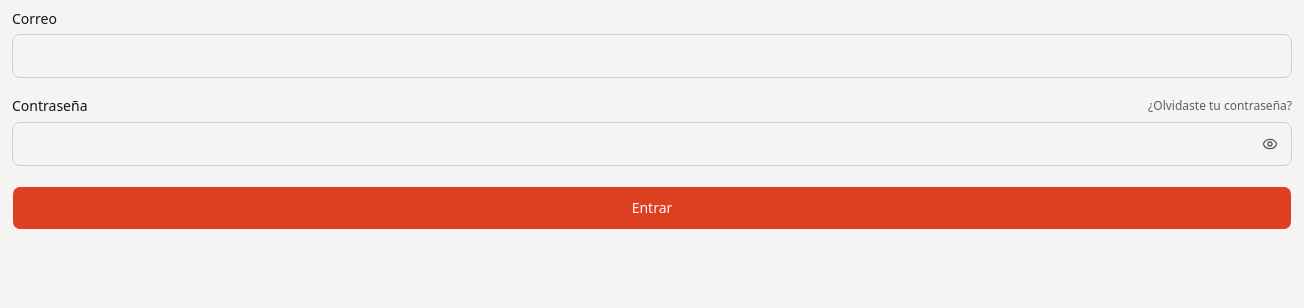
Scenario: LoginForm › validates the email before submitting
The image size is (1304, 308).
In the field labelled "Correo": coordinates (652, 56) [12, 34, 1292, 78], type "no-es-correo"
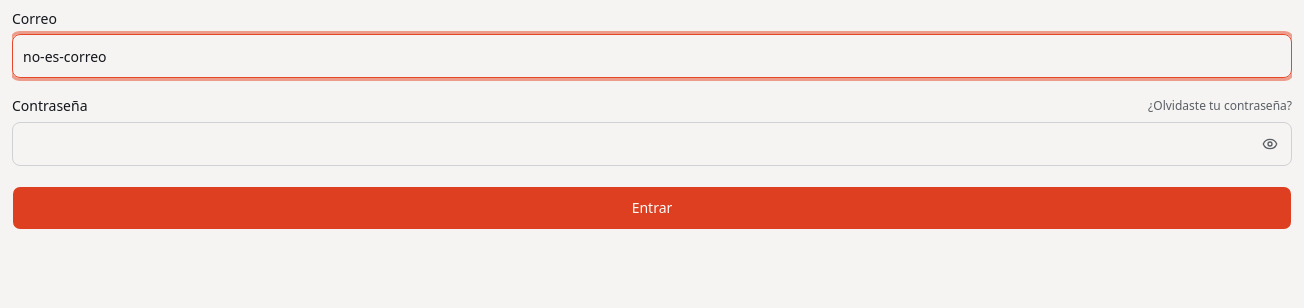
In the password field labelled "Contraseña": coordinates (652, 144) [12, 122, 1292, 166], type "x"
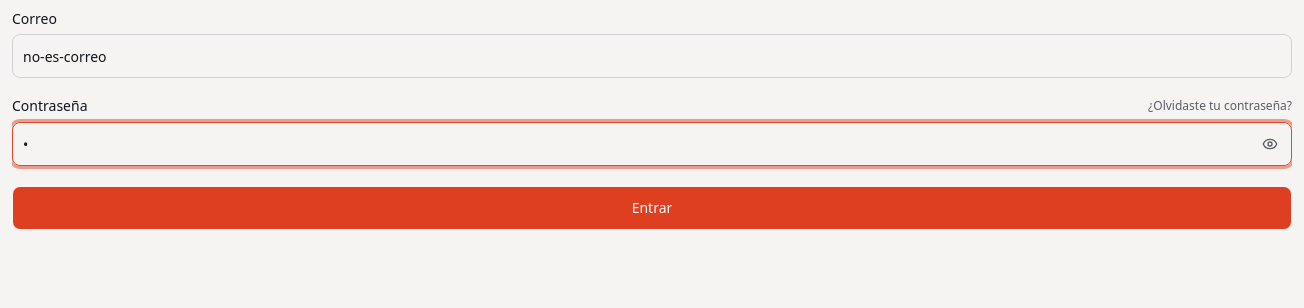
Click the button "Entrar": coordinates (652, 208) [12, 186, 1292, 230]
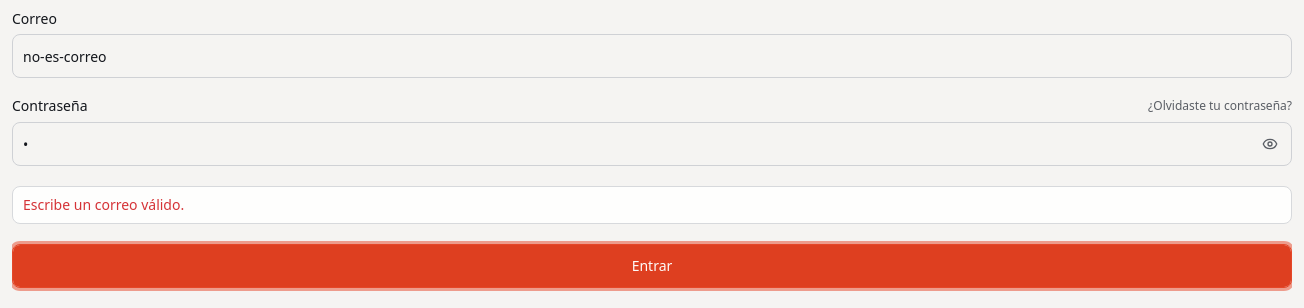
Now the message shows "correo válido", box [23, 195, 184, 214]
